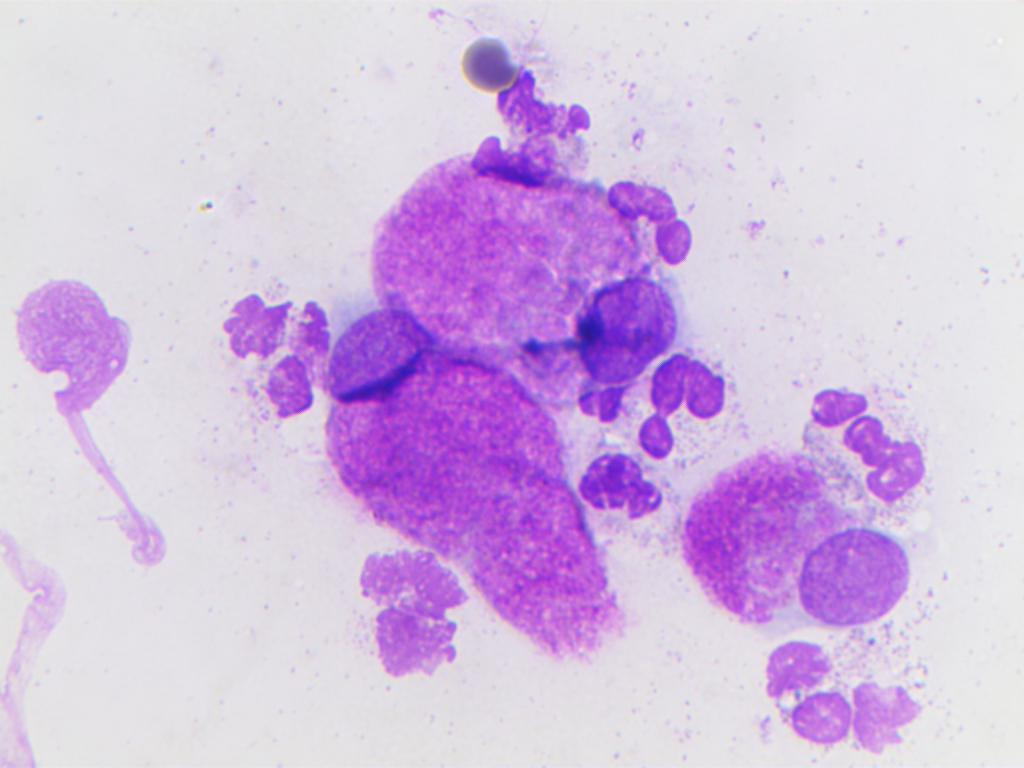erythrocyte: (446, 28, 532, 100)
goblet_cell: (322, 302, 622, 667), (328, 130, 651, 369), (667, 446, 916, 637)
neutrophil: (751, 628, 931, 764), (795, 364, 934, 510), (219, 276, 335, 442), (627, 358, 754, 472), (559, 426, 665, 558), (605, 159, 727, 261)
